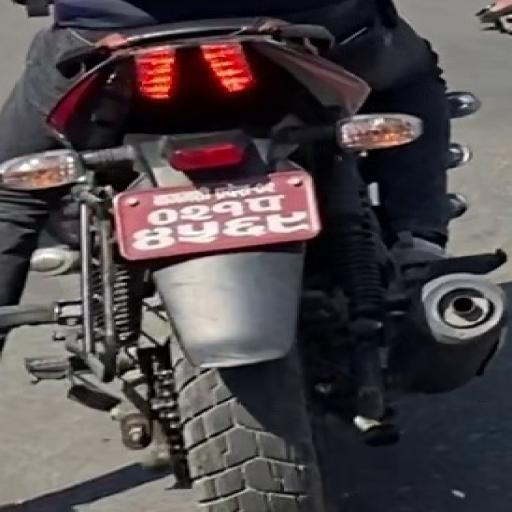license_plate: (108, 167, 326, 263)
